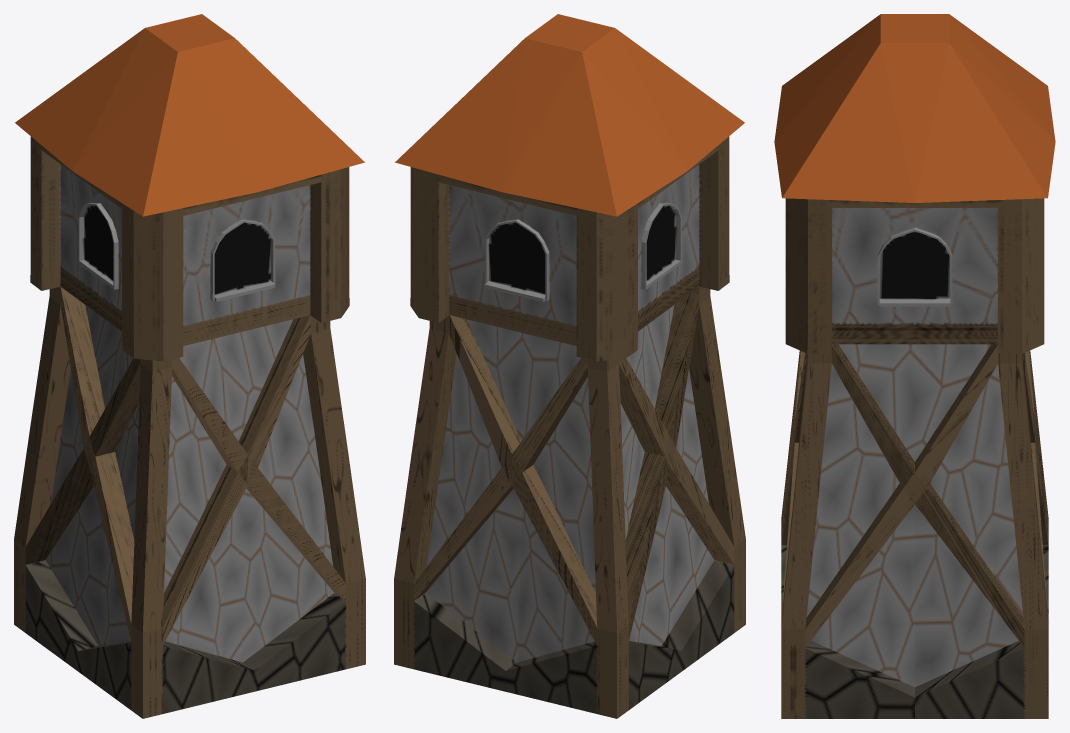
The model's file is ATT2tower.fbx.
3 views of the same model, side by side, from view 1: azimuth 30°, elevation 25°; view 2: azimuth 150°, elevation 25°; view 3: azimuth 270°, elevation 25° (orthographic). The views are drawn at different scales.
Visible parts, largest first — view 1: Plane; view 2: Plane; view 3: Plane.
Part boxes in pixels (<box>): Plane: <box>14,14,365,718</box>; Plane: <box>394,14,745,718</box>; Plane: <box>774,14,1055,718</box>.
Bounding box in the file's own units: 750 × 1841 × 740.
12 materials, 12 textured.
